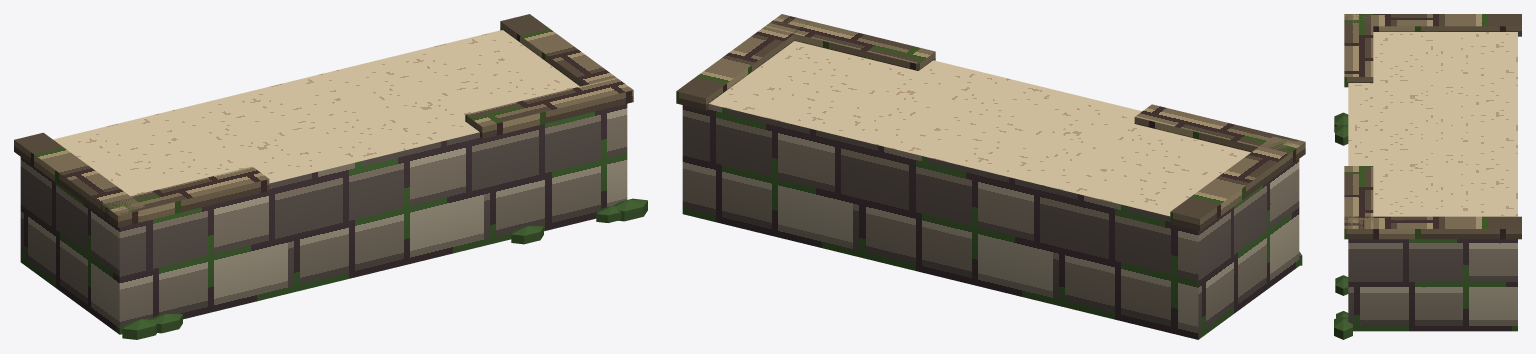
Rendered from scene_plat_o8.glb.
3 views of the same model, side by side, from view 1: azimuth 30°, elevation 25°; view 2: azimuth 150°, elevation 25°; view 3: azimuth 270°, elevation 25° (orthographic). The views are drawn at different scales.
Parts seen in each view (by area): view 1: scene_plat_o8; view 2: scene_plat_o8; view 3: scene_plat_o8.
Part boxes in pixels (<box>): scene_plat_o8: <box>14,14,647,339</box>; scene_plat_o8: <box>676,14,1305,339</box>; scene_plat_o8: <box>1334,14,1521,339</box>.
Bounding box in the file's own units: 6.47 × 1.5 × 2.33.
Materials: 3 (2 with a texture image).
